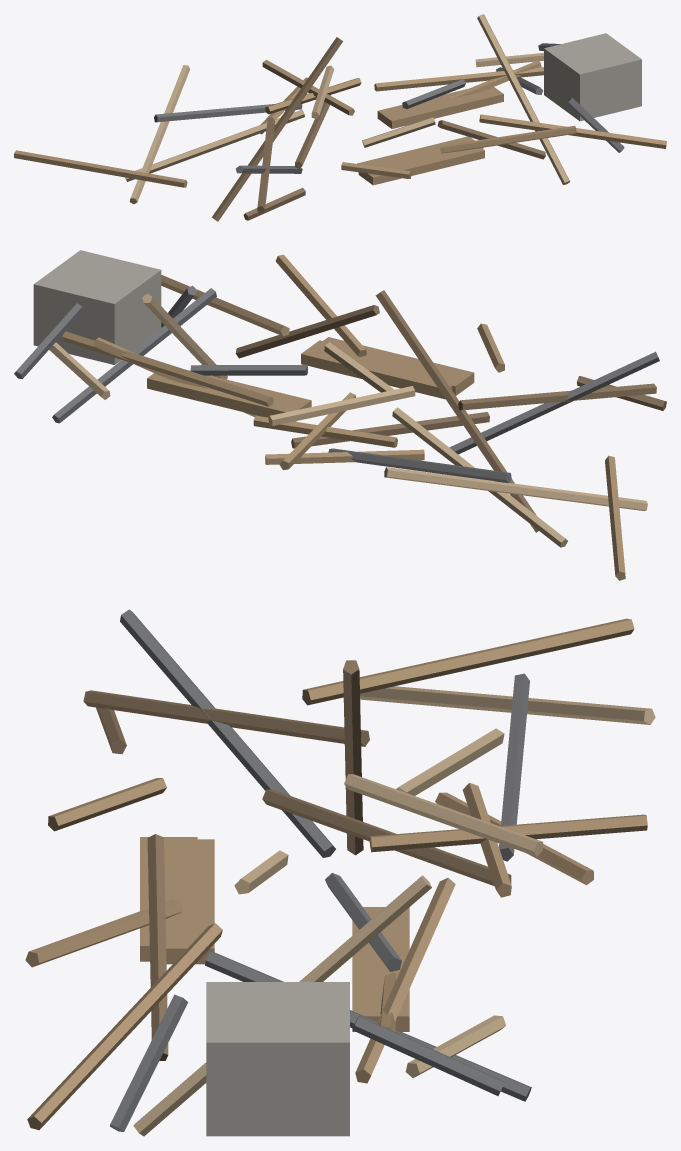
The model's file is toll_gate_wreckage.glb.
3 views of the same model, one above another, from view 1: azimuth 30°, elevation 25°; view 2: azimuth 150°, elevation 25°; view 3: azimuth 270°, elevation 25° (orthographic). The views are drawn at different scales.
Visible parts, largest first — view 1: wood, stone, wood_lt, wood_dk, iron; view 2: wood, stone, wood_lt, iron, wood_dk; view 3: wood, stone, wood_lt, iron, wood_dk.
Boxes of the visible parts, x1,y1,x2,y2 form: wood: (14, 60, 666, 187); stone: (544, 33, 641, 121); wood_lt: (125, 14, 570, 204); wood_dk: (211, 37, 545, 221); iron: (154, 43, 624, 173); wood: (62, 254, 625, 580); stone: (33, 250, 161, 364); wood_lt: (49, 293, 647, 547); iron: (14, 285, 659, 483); wood_dk: (235, 290, 666, 532); wood: (25, 618, 647, 1130); stone: (206, 982, 349, 1136); wood_lt: (133, 686, 655, 1136); iron: (110, 609, 531, 1131); wood_dk: (83, 660, 511, 1060).
Size of the model in its own units: 4.21 by 1.2 by 2.2.
